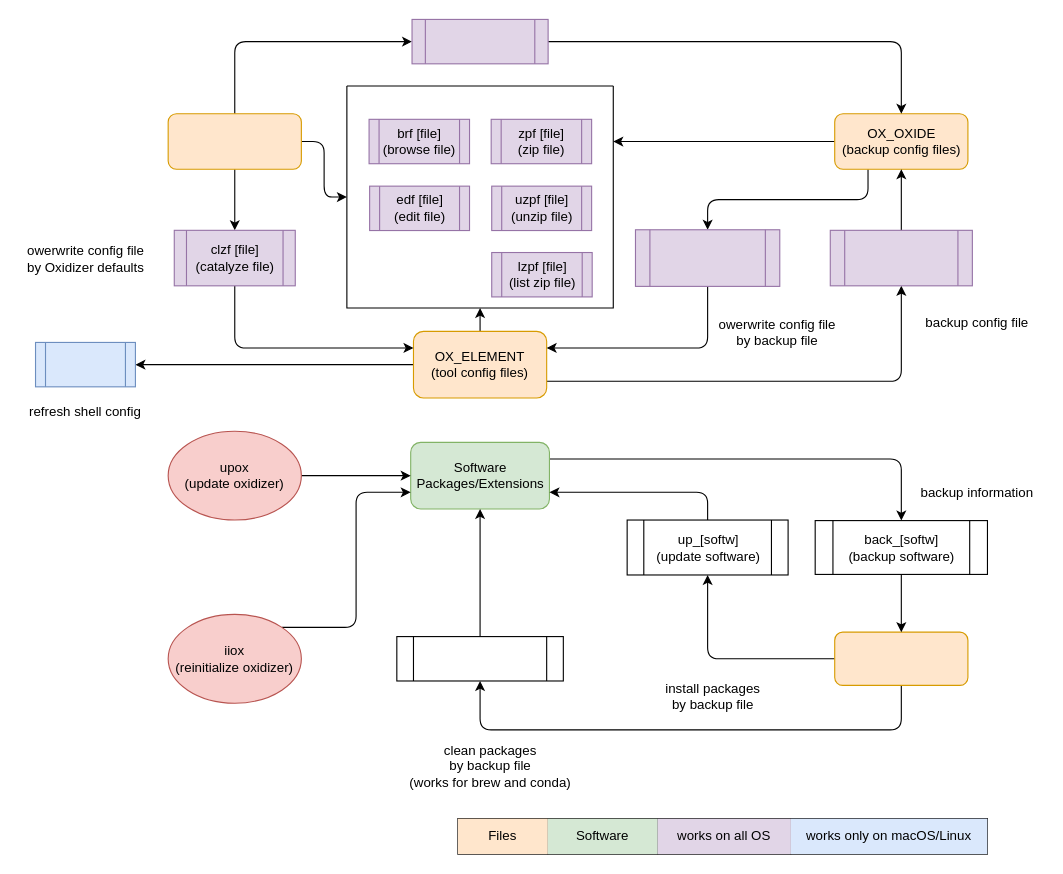
This 1063x874 diagram has some shape labels left out. Each missing label, with the box of its shape:
Backup file: (834, 631, 968, 685)
clean_[softw] (clean software/pkg): (396, 635, 563, 681)
OX_OXYGEN (default config files): (167, 113, 301, 169)
oxf [file] (oxidize file): (829, 229, 972, 286)
ppgf [file] (propagate file): (411, 18, 548, 64)
rdf [file] (reduce file): (634, 229, 780, 286)
rff (refresh file): (34, 341, 135, 387)
